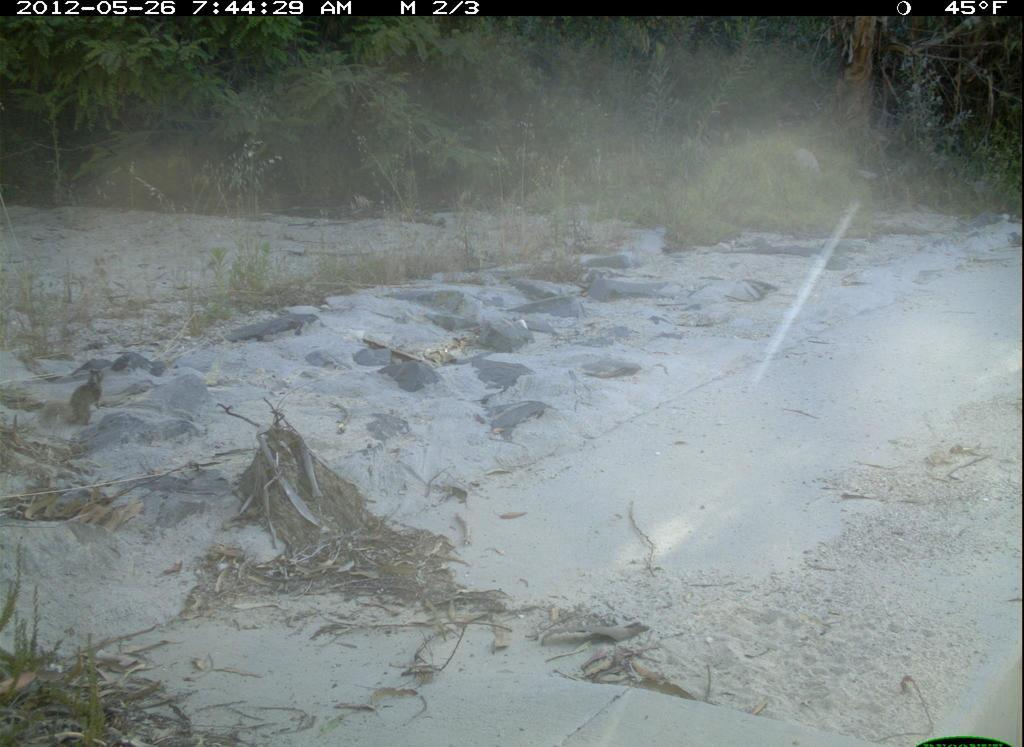squirrel: (38, 364, 111, 436)
